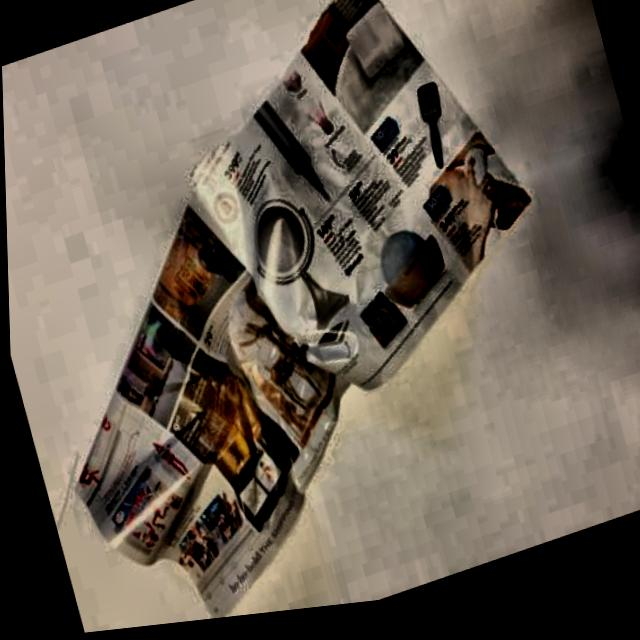Paper: (0, 0, 613, 640)
